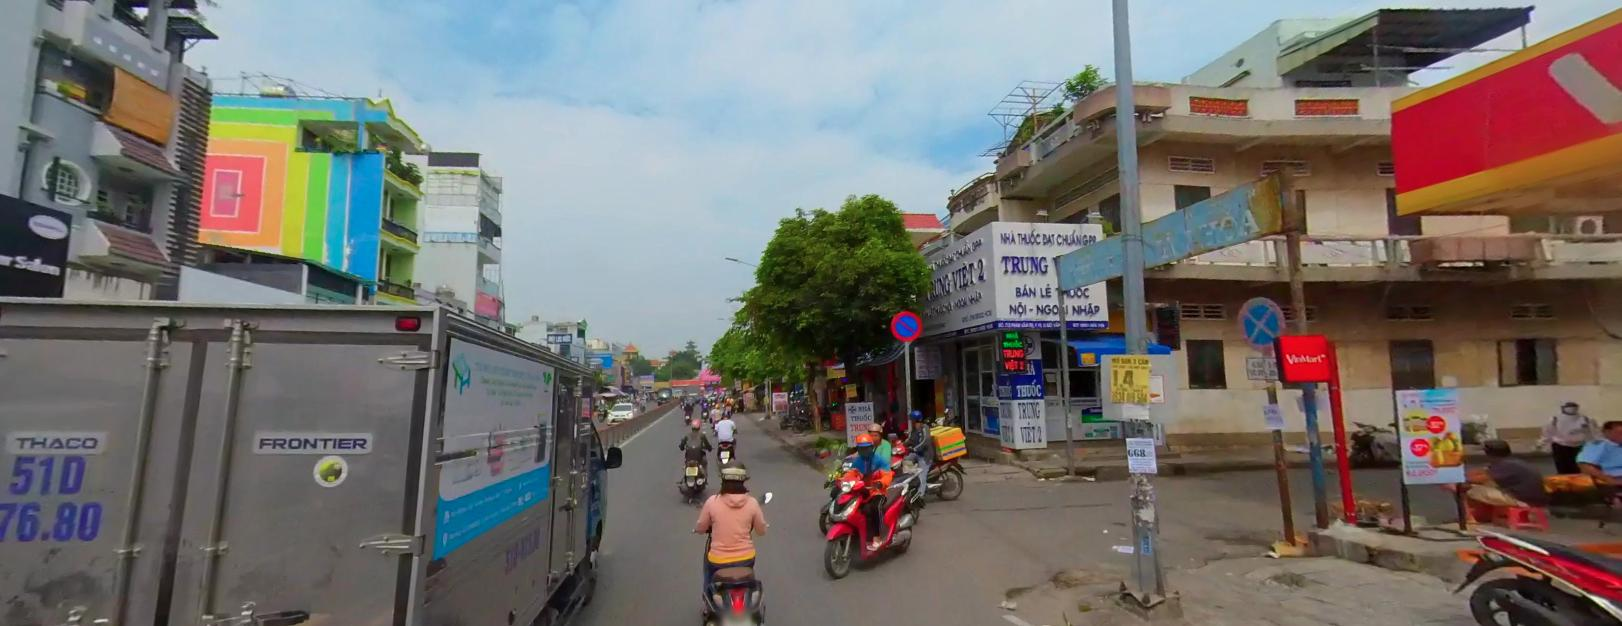Cam dung va do: (1237, 295, 1287, 350), (890, 308, 921, 339)
